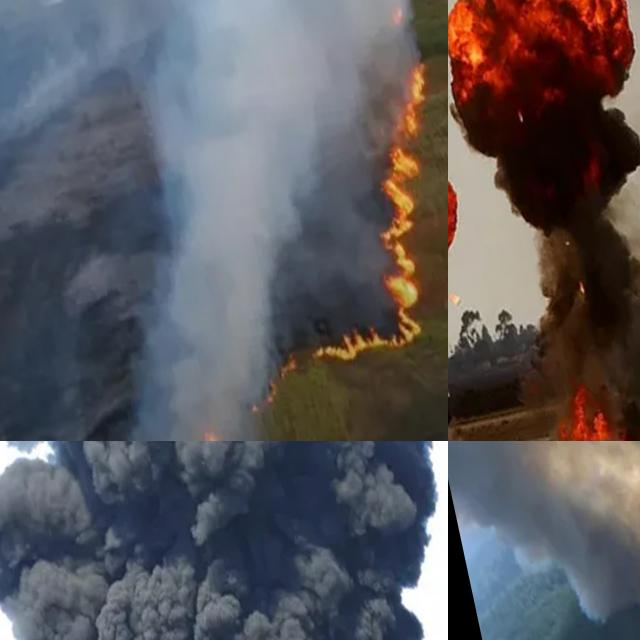smoke: (0, 0, 448, 441), (0, 441, 448, 640), (448, 0, 640, 441), (448, 441, 640, 640), (448, 62, 513, 441)
